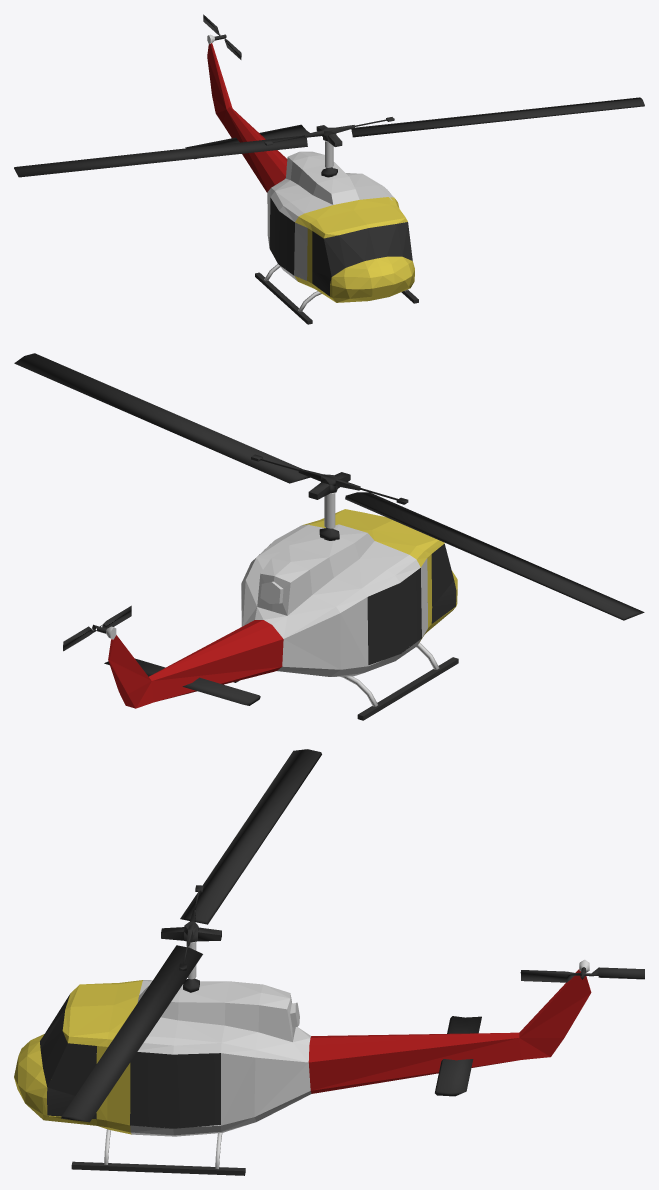
Rendered from helicopter.glb.
3 renders of one model, top to bottom at view 1: azimuth 30°, elevation 25°; view 2: azimuth 150°, elevation 25°; view 3: azimuth 270°, elevation 25°, orthographic. The views are drawn at different scales.
Visible parts, largest first — view 1: contract, Box20183, Box04_Box014, Cylinder005, Box20180, Box01_Box003; view 2: contract, Box04_Box014, Box20183, Cylinder005, Box20180, Box20184, Cylinder007; view 3: contract, Box04_Box014, Box20183, Box20182, Cylinder005, Cylinder007, Box01_Box003.
Part boxes in pixels (left/top/right/bottom): contract: left=207, top=34, right=414, bottom=302; Box20183: left=14, top=135, right=307, bottom=177; Box04_Box014: left=351, top=97, right=644, bottom=137; Cylinder005: left=264, top=117, right=394, bottom=177; Box20180: left=255, top=272, right=312, bottom=324; Box01_Box003: left=259, top=124, right=309, bottom=139; contract: left=106, top=509, right=457, bottom=708; Box04_Box014: left=14, top=353, right=309, bottom=483; Box20183: left=345, top=492, right=644, bottom=620; Cylinder005: left=251, top=454, right=408, bottom=540; Box20180: left=357, top=657, right=458, bottom=720; Box20184: left=182, top=677, right=260, bottom=705; Cylinder007: left=63, top=605, right=131, bottom=651; contract: left=14, top=959, right=591, bottom=1136; Box04_Box014: left=61, top=945, right=202, bottom=1122; Box20183: left=180, top=749, right=321, bottom=924; Box20182: left=71, top=1161, right=245, bottom=1175; Cylinder005: left=161, top=885, right=221, bottom=992; Cylinder007: left=520, top=967, right=644, bottom=982; Box01_Box003: left=435, top=1059, right=473, bottom=1096.
Bounding box in the file's own units: 9 × 2.4 × 6.46.
